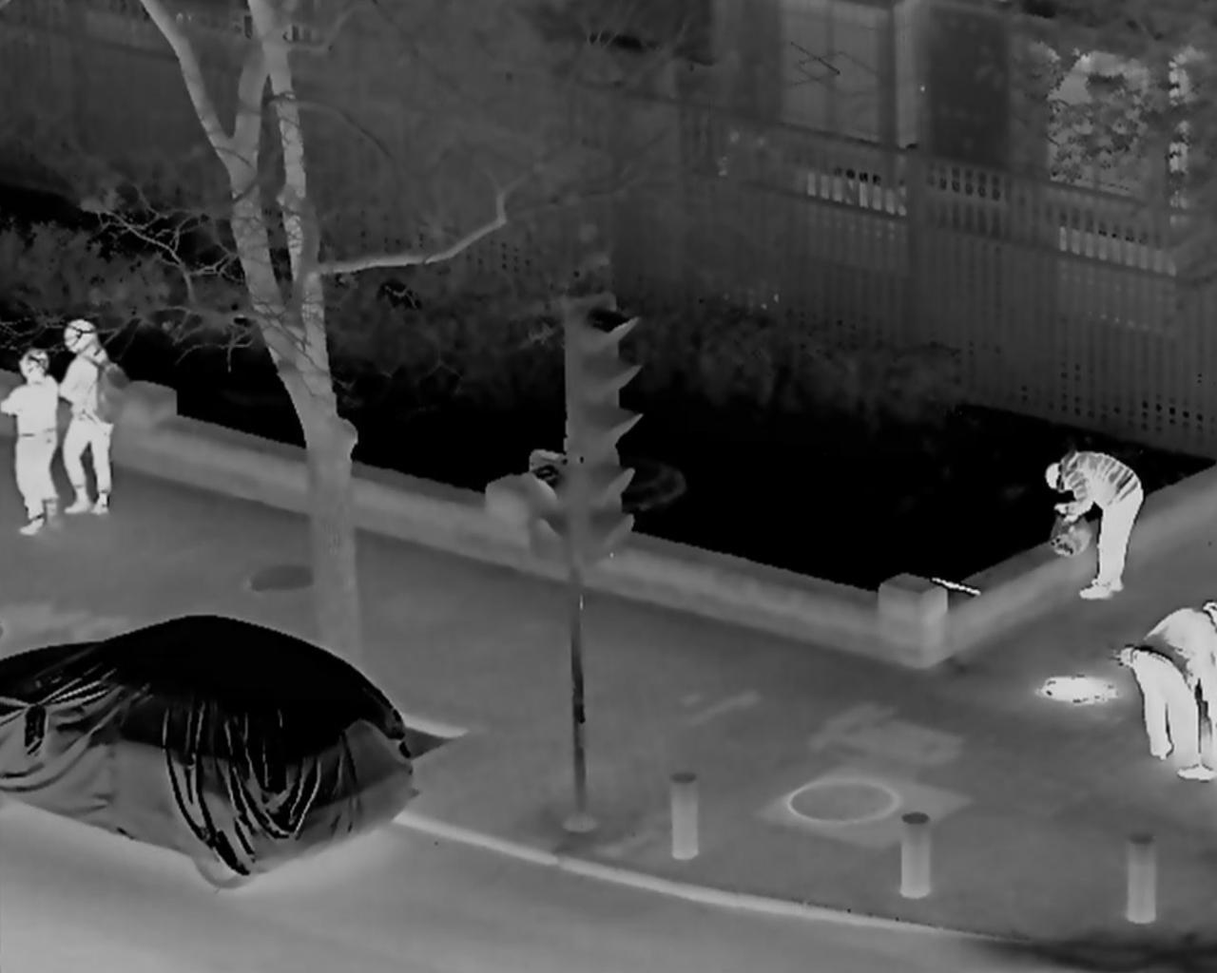person: (1131, 601, 1217, 777), (1041, 448, 1130, 603), (54, 321, 125, 511), (3, 347, 62, 543)
